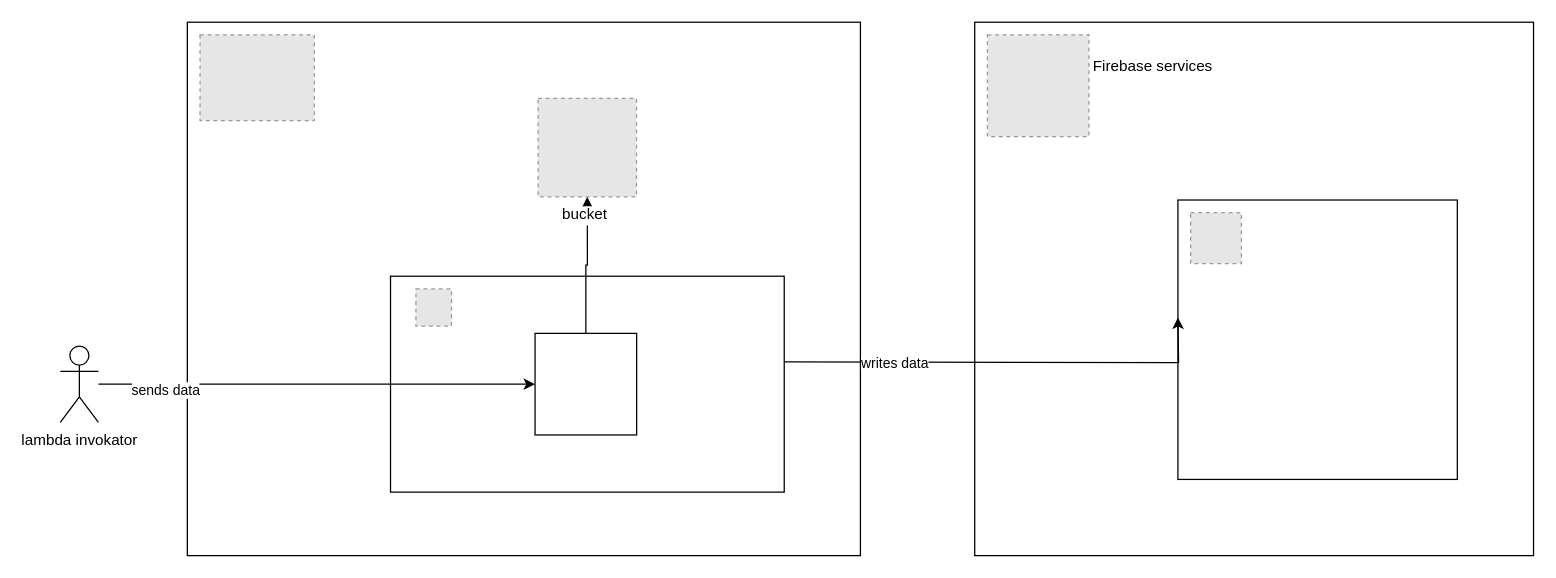
This 1556x578 diagram has some shape labels left out. Grey dashed boxes stand in for pictures. Here are the shapes that lost their labels. From the top down, the box of each, then its label:
(1177, 199, 1457, 479): Firebase remote config template
(534, 332, 637, 435): remote config lambda
